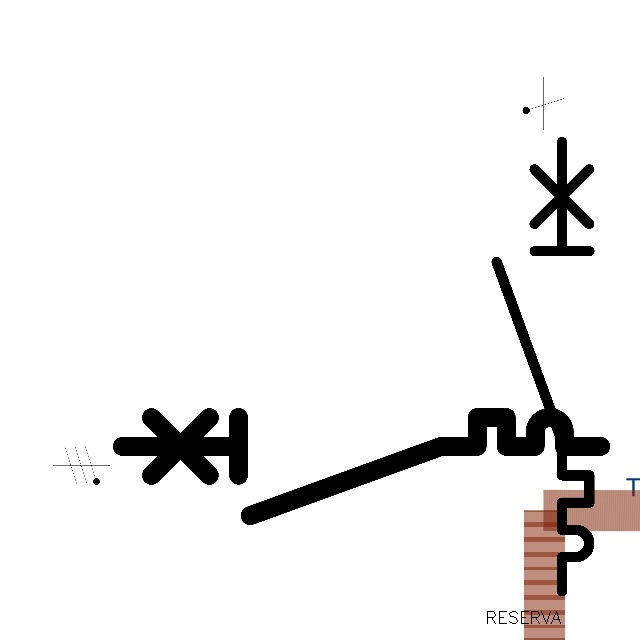interruptor_termomagnetico: (109, 405, 612, 528), (485, 130, 601, 603)
